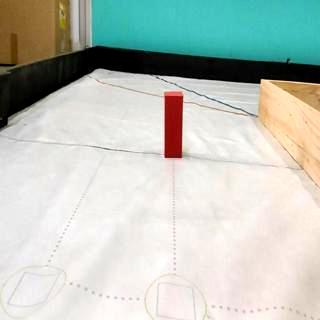redbox: (164, 90, 183, 158)
